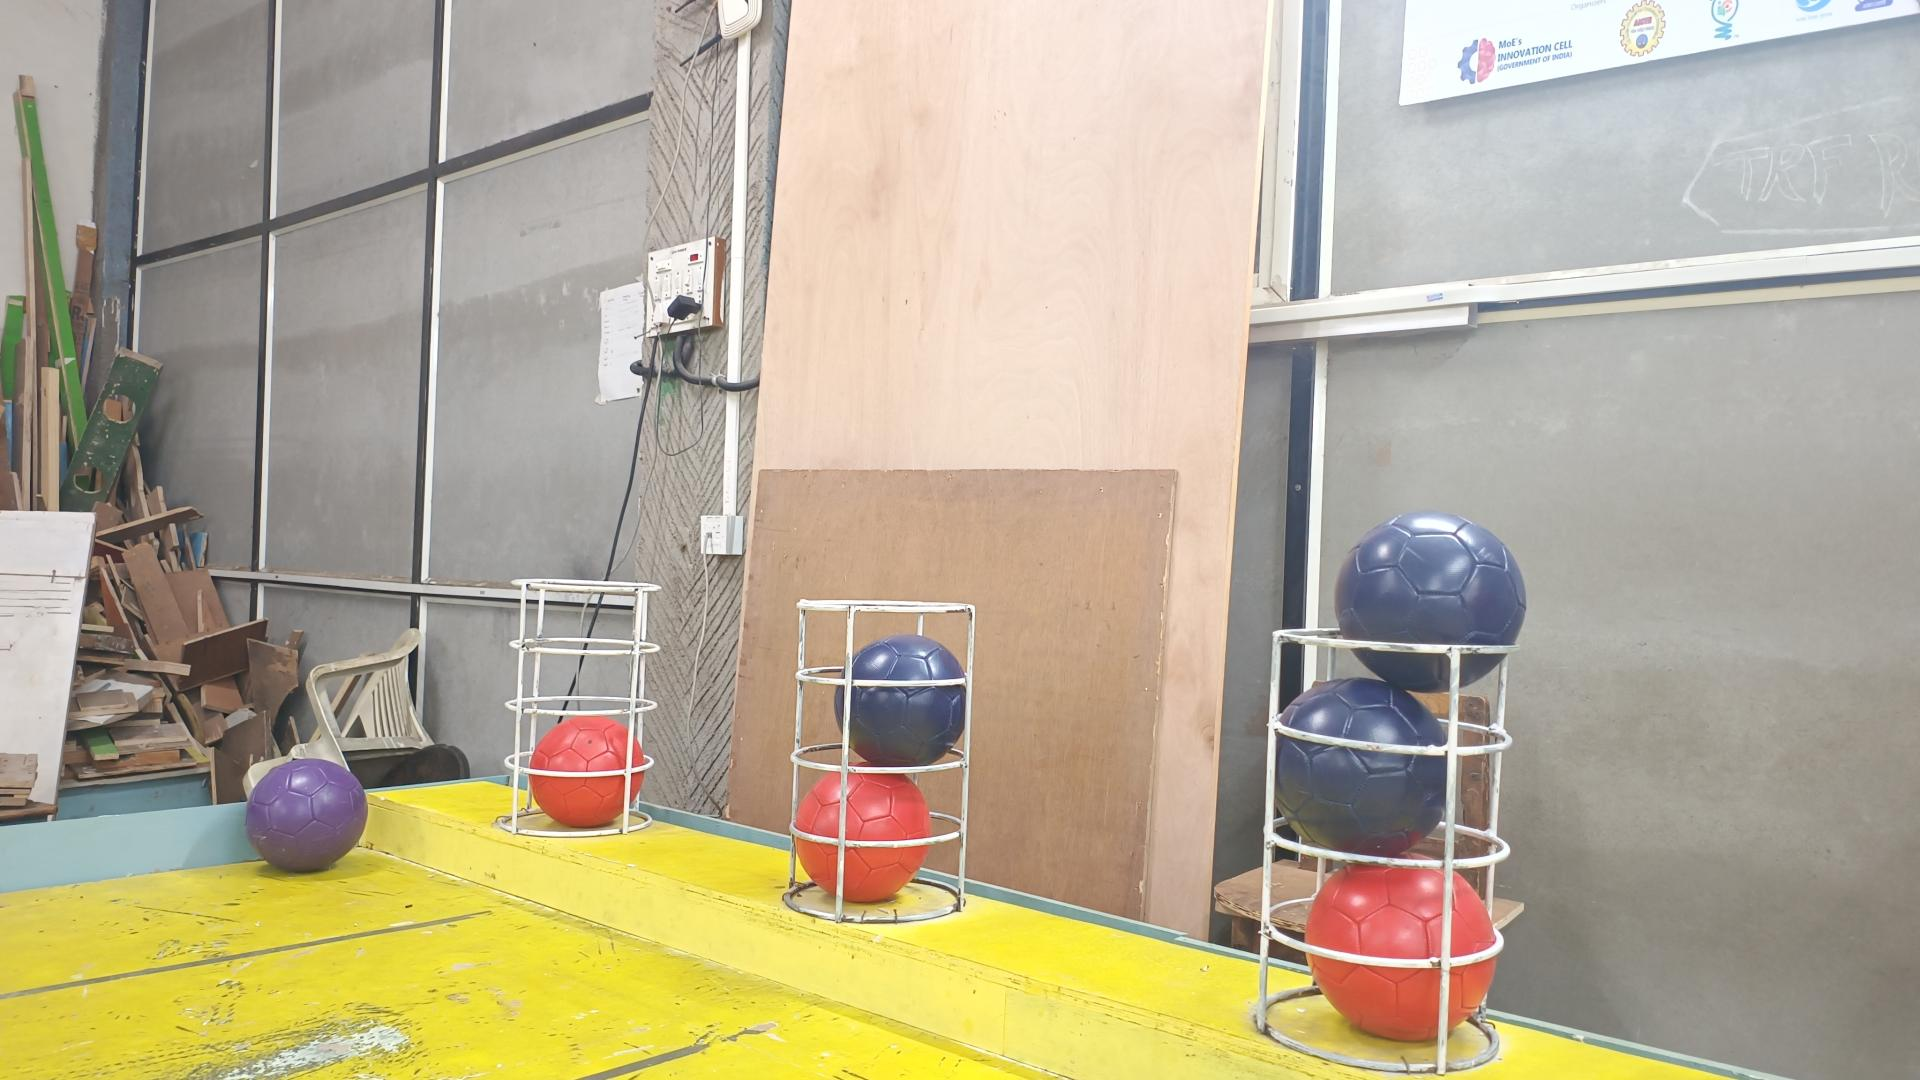dhoka: (1335, 510, 1526, 694), (1275, 679, 1452, 858), (832, 634, 968, 769)
laale: (1305, 862, 1501, 1043), (795, 773, 930, 903), (529, 716, 649, 828)
